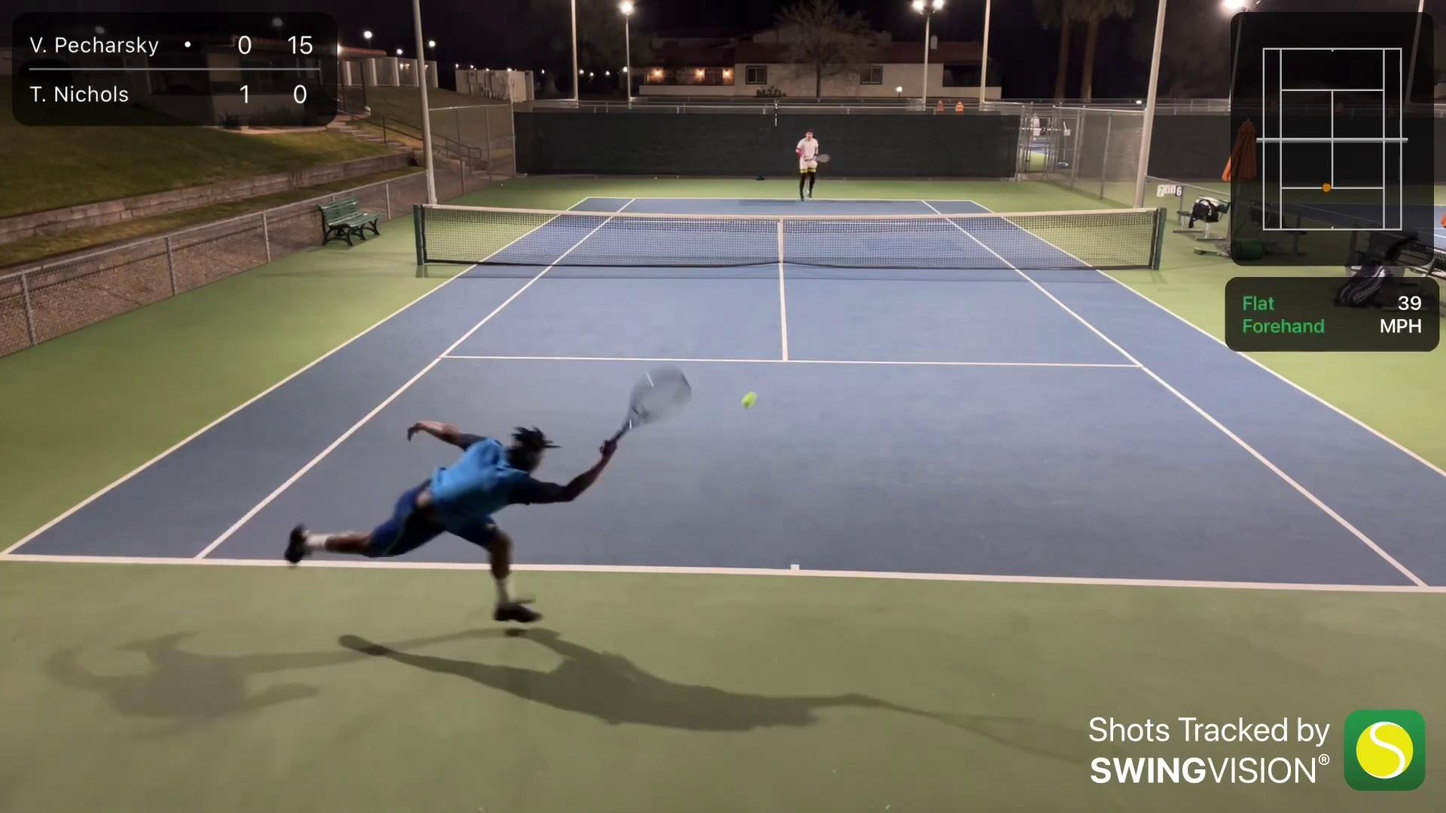ball: (732, 380, 768, 416)
